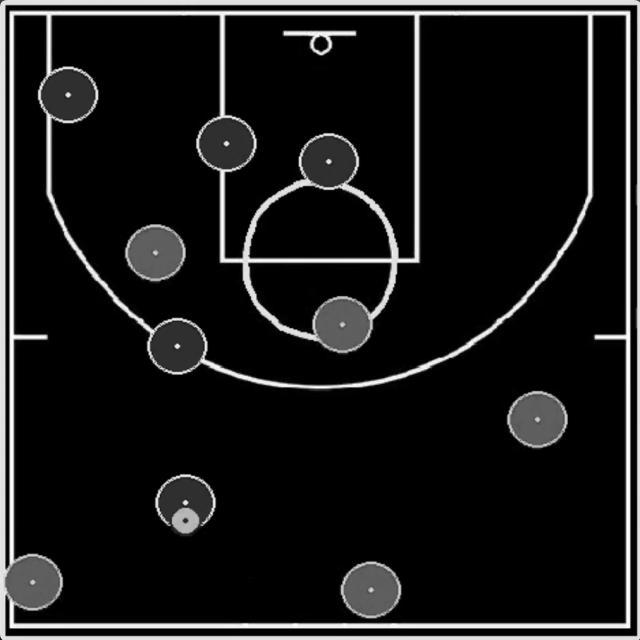Basketball: (172, 508, 200, 534)
Team_A: (39, 66, 98, 124), (156, 474, 216, 531), (148, 318, 208, 375), (197, 115, 257, 172), (299, 134, 359, 190)
Team_B: (507, 391, 568, 449), (341, 561, 402, 619), (125, 224, 186, 281), (313, 296, 372, 354), (3, 554, 63, 611)
